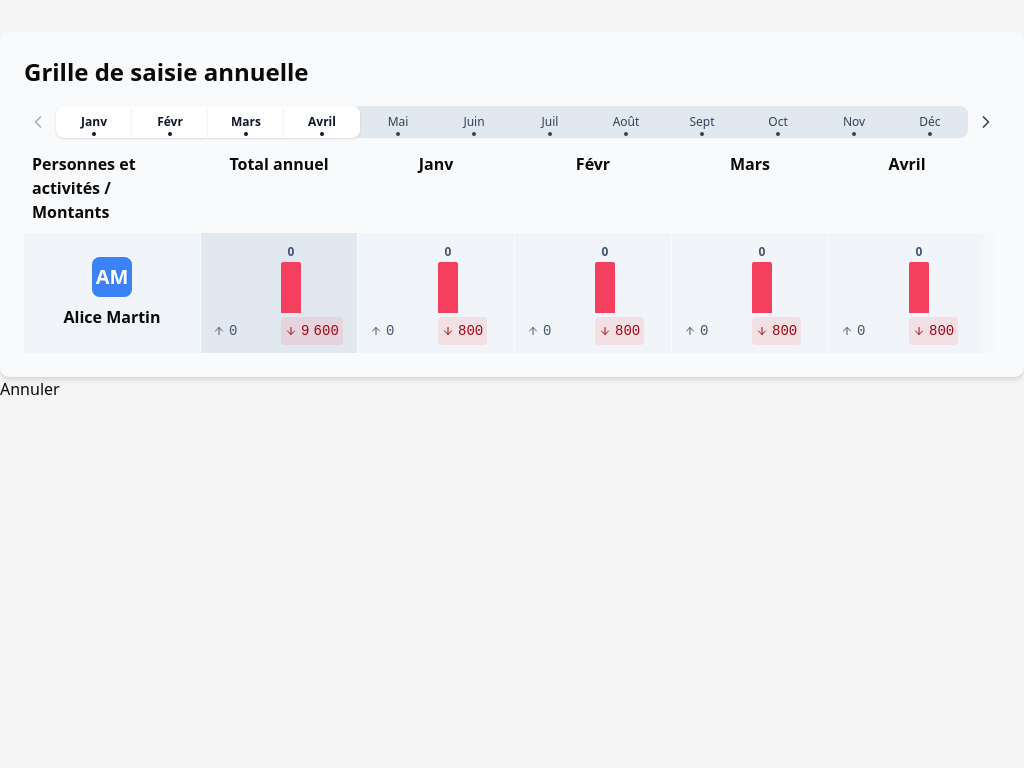
Test: MonthlyGrid, sur plusieurs années › supprime une charge du même mois dans les autres années, et décoche les années à la réouverture
The width and height of the screenshot is (1024, 768).
What coordinates should you click on to do the following:
click the button named "Flux de mars : Alice Martin"
I would click on:
 (750, 293)
Its box is [672,233,828,353].
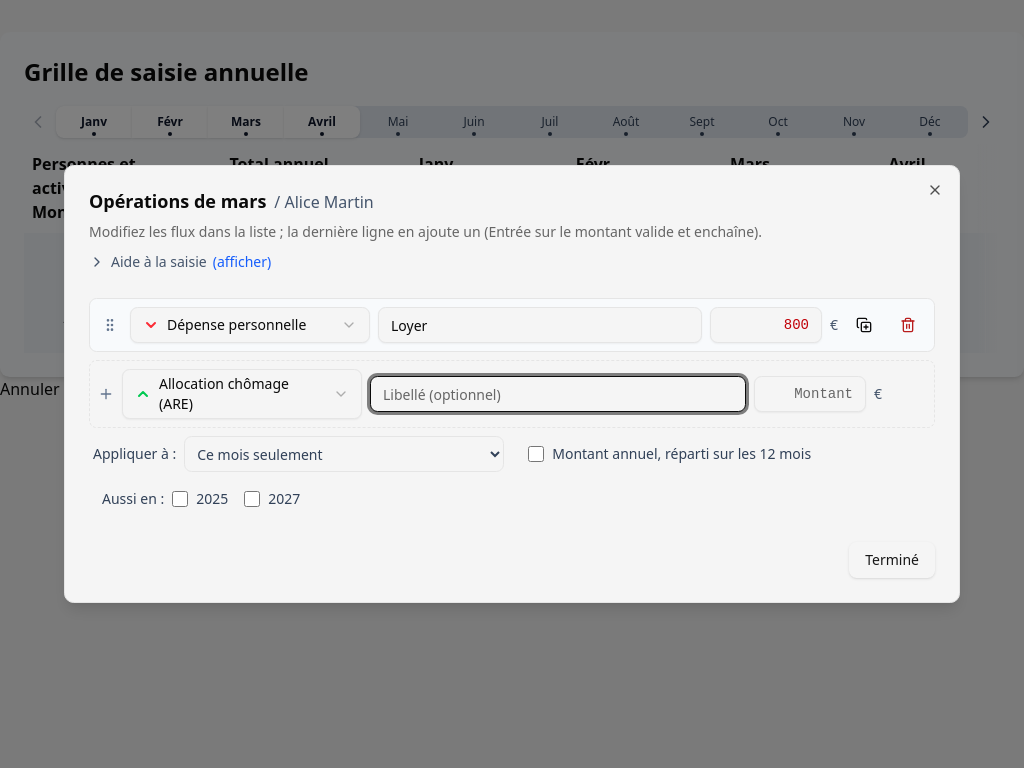
What coordinates should you click on to do the following:
click the checkbox labelled "2025"
I would click on:
 (180, 499)
Its box is [172,491,188,507].
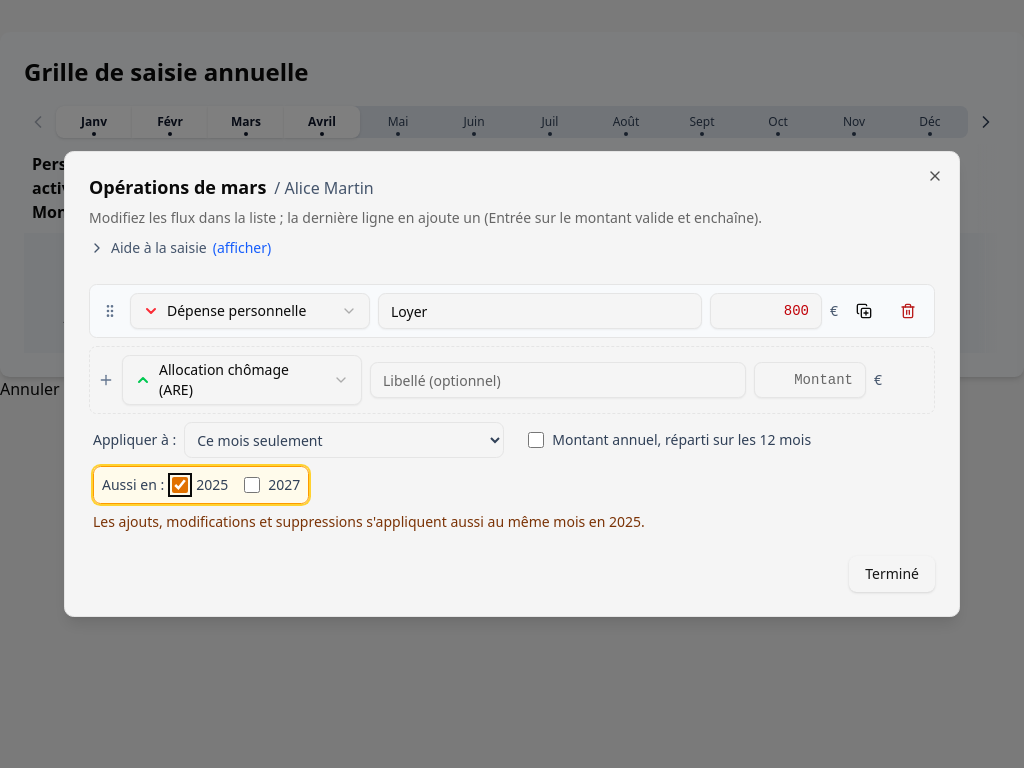
What coordinates should you click on to do the following:
click the checkbox labelled "2027"
I would click on:
 (252, 485)
Its box is [244,477,260,493].
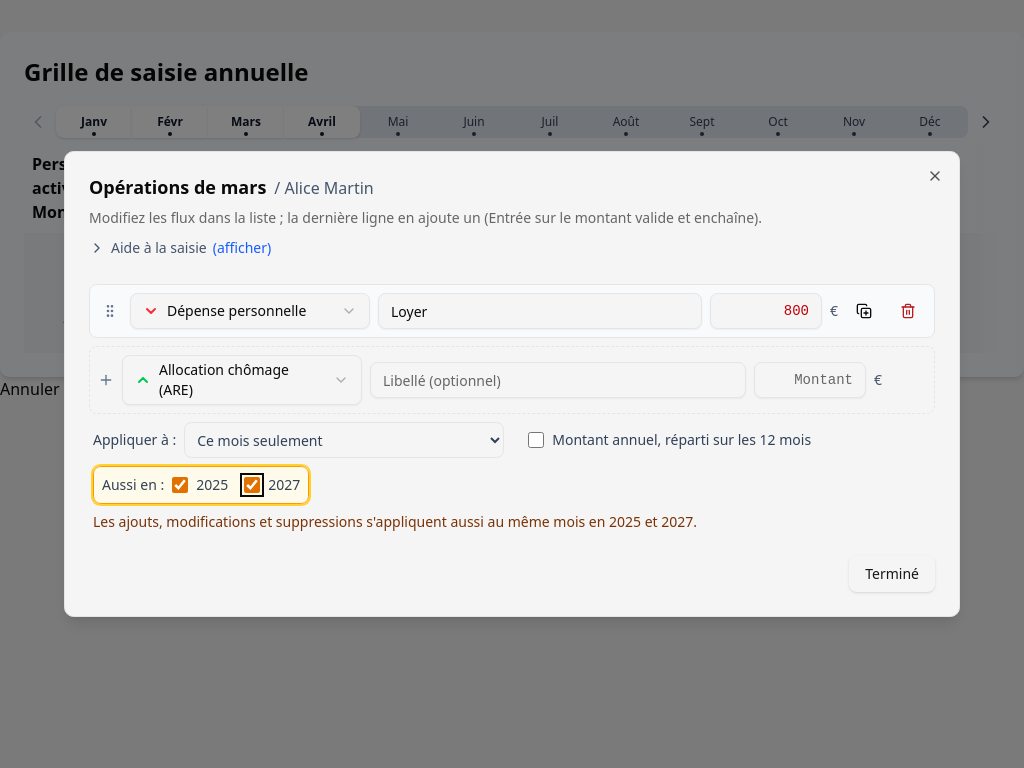
What coordinates should you click on to do the following:
click the button named "Supprimer le flux"
I would click on:
 (908, 311)
Its box is [890,293,926,329].
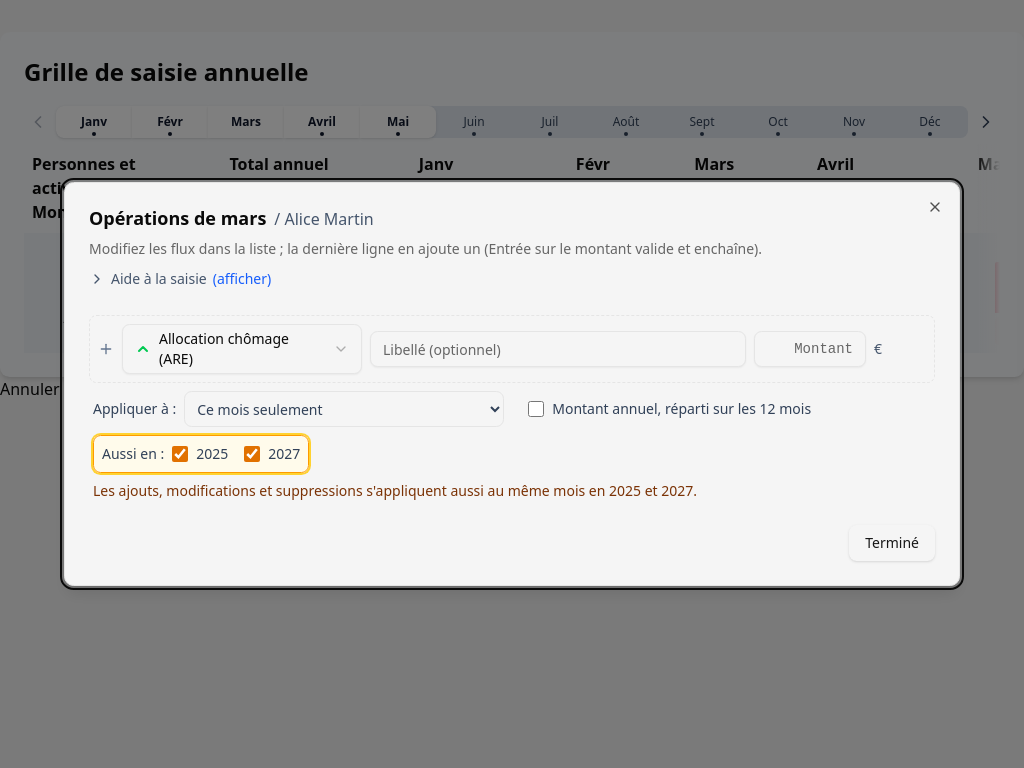
What coordinates should you click on to do the following:
click the button "Terminé"
I would click on:
 (892, 543)
Its box is [849,525,935,561].
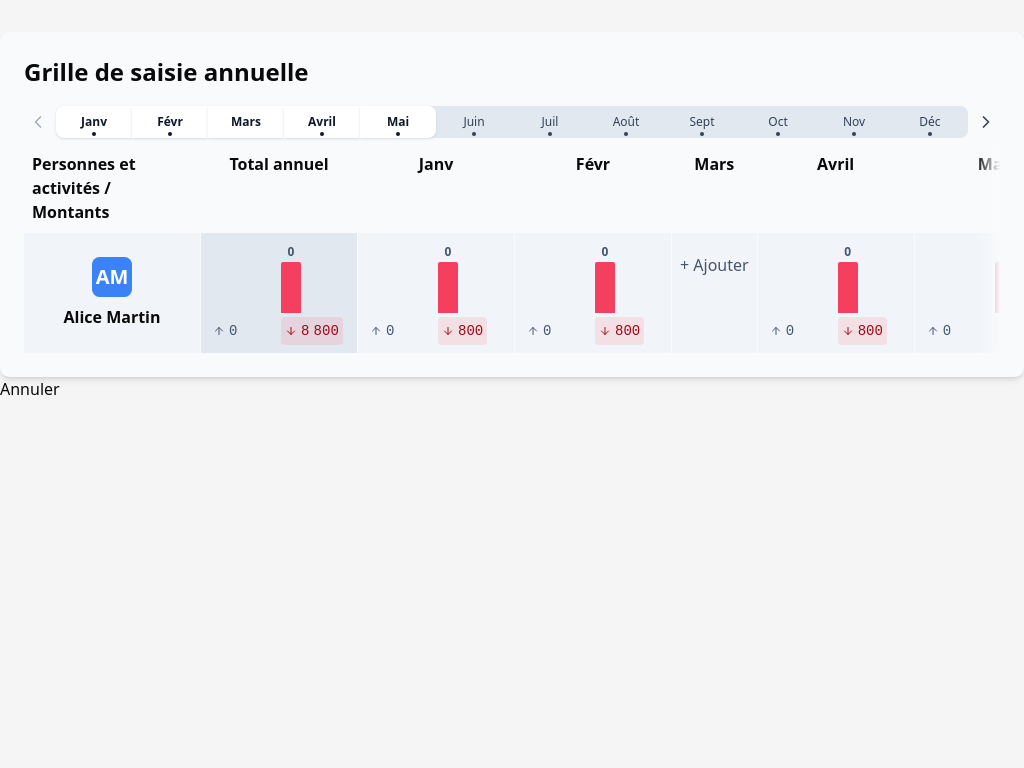
What coordinates should you click on to do the following:
click the button named "Flux d’avril : Alice Martin"
I would click on:
 (836, 293)
Its box is [758,233,914,353].
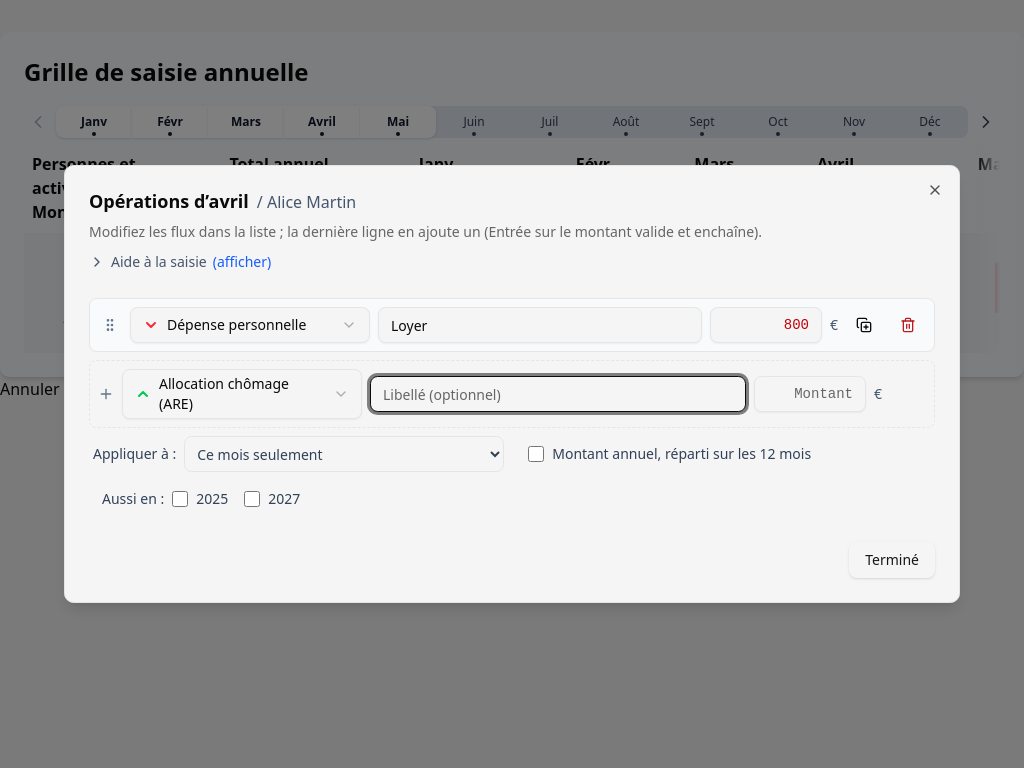
Result: the checkbox labelled "2025" is not checked at [172,491,188,507]
